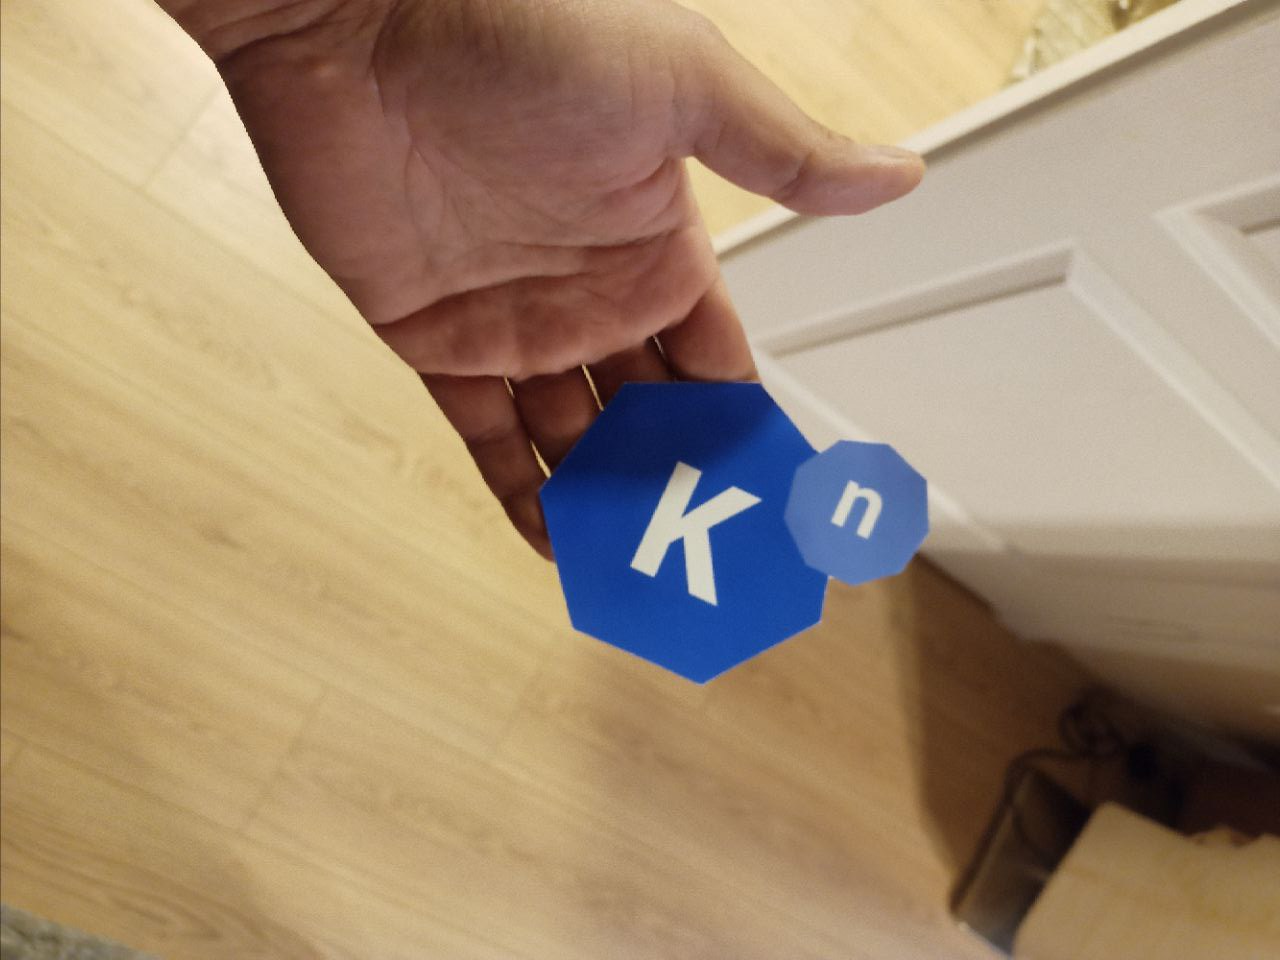knative: (537, 378, 932, 688)
